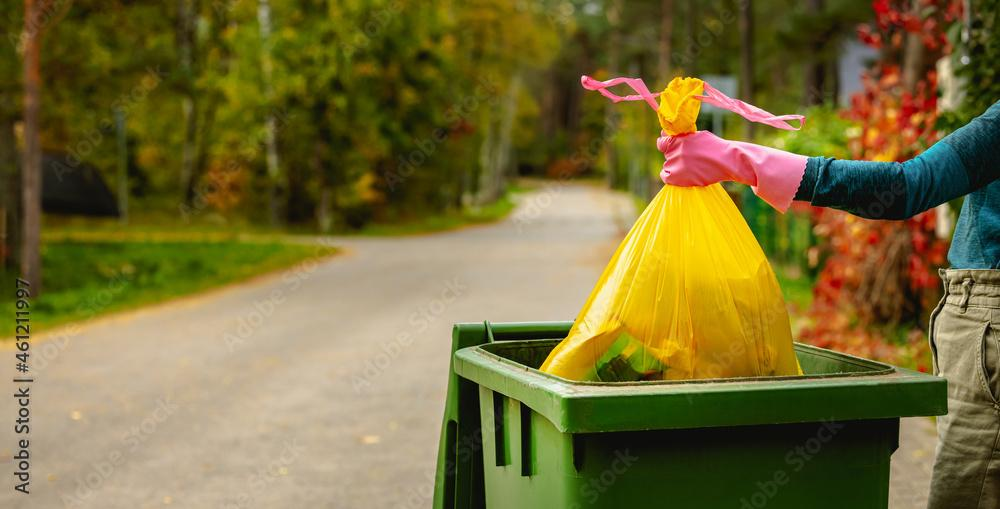garbage bin: (453, 326, 947, 508)
road: (0, 186, 633, 507)
trash: (541, 184, 801, 381), (656, 78, 705, 137)
